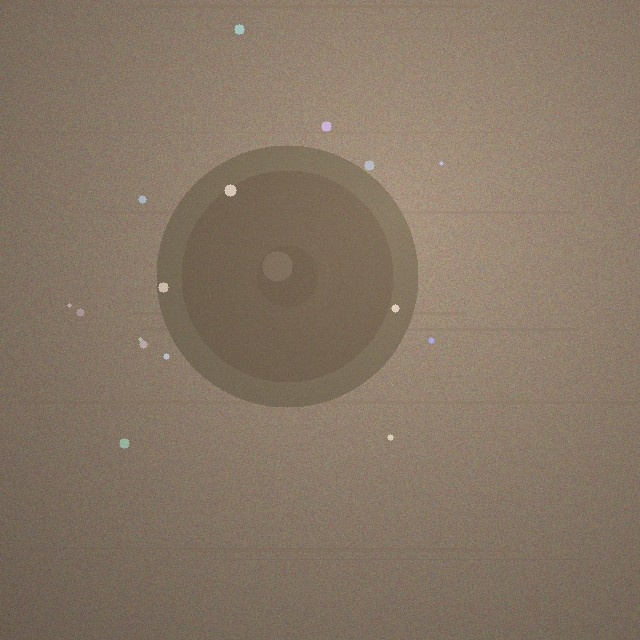overburn: (156, 145, 418, 407)
